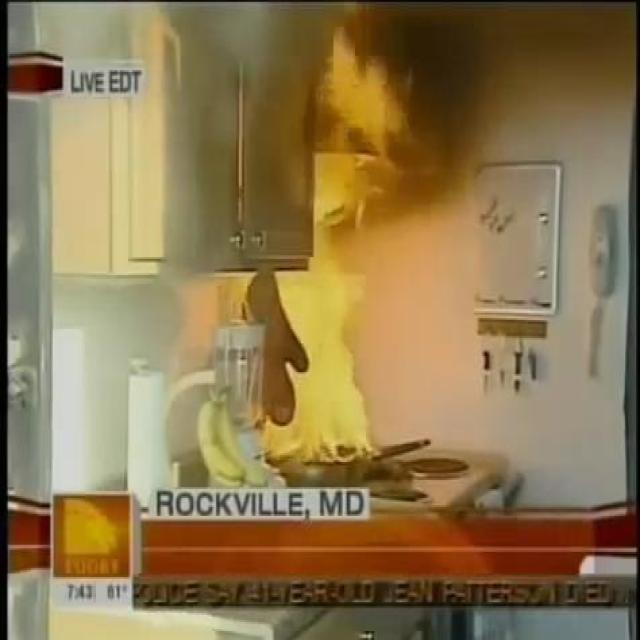fire: (208, 3, 309, 143)
smoke: (256, 231, 375, 474), (314, 26, 412, 222)
